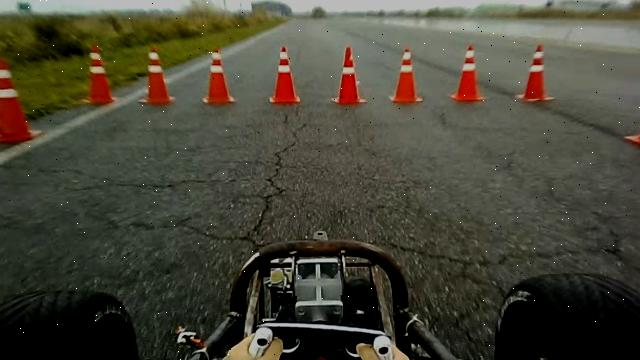red cone: (0, 57, 43, 144), (516, 43, 556, 102), (138, 46, 176, 105), (450, 44, 488, 102), (326, 46, 362, 106), (83, 44, 115, 105), (389, 47, 423, 103), (268, 45, 300, 104), (202, 46, 234, 104)
